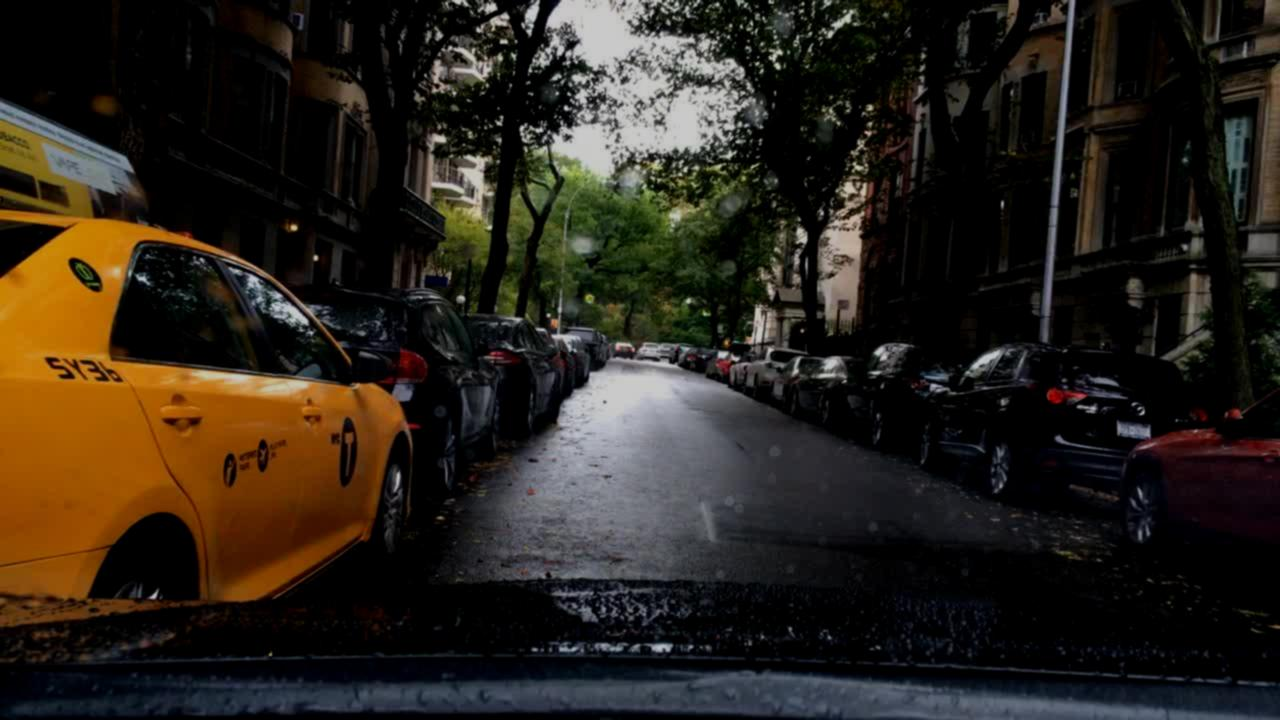Mazda: (1127, 397, 1149, 421)
